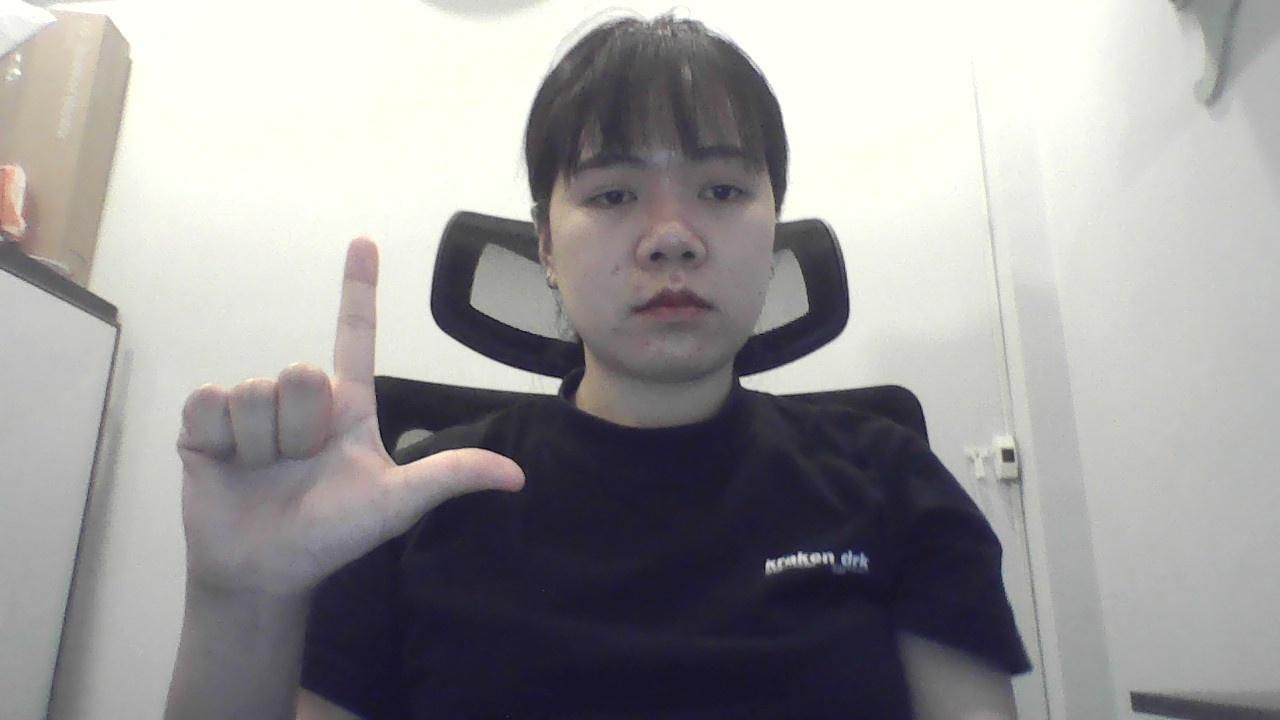L: (142, 221, 526, 624)
